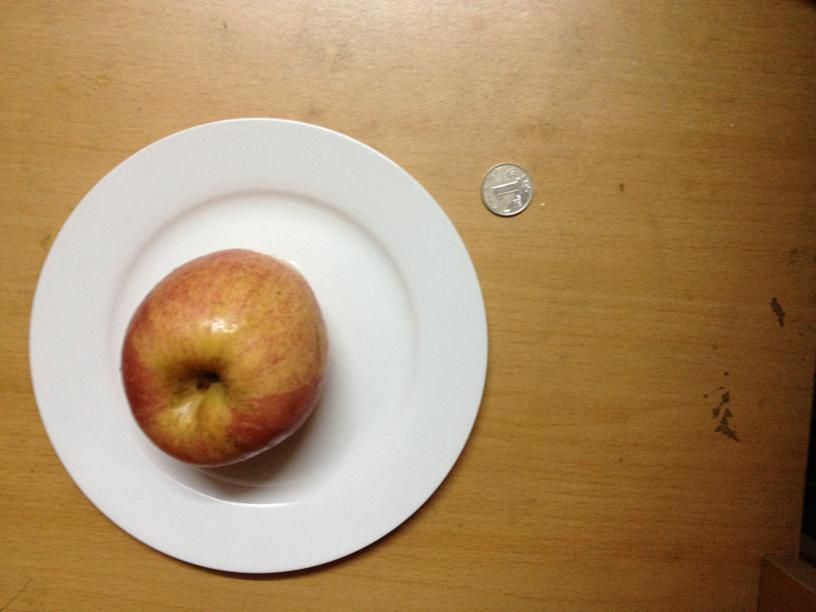apple: (120, 251, 327, 466)
coin: (481, 164, 533, 218)
